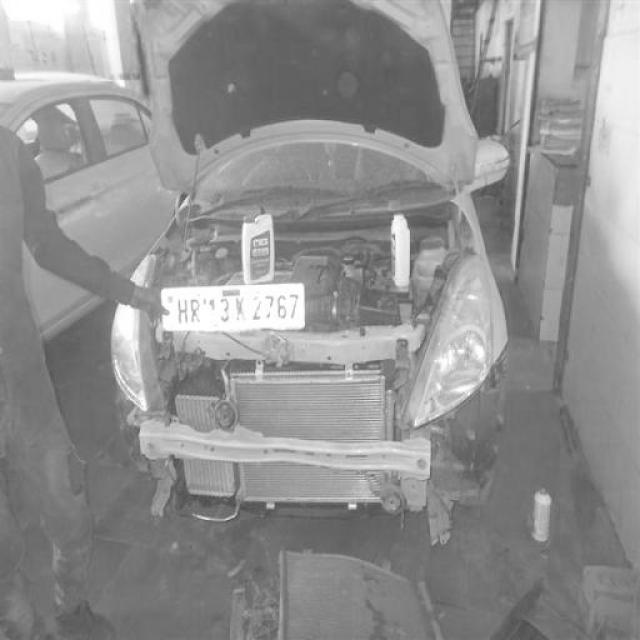car damage: (103, 264, 530, 532)
